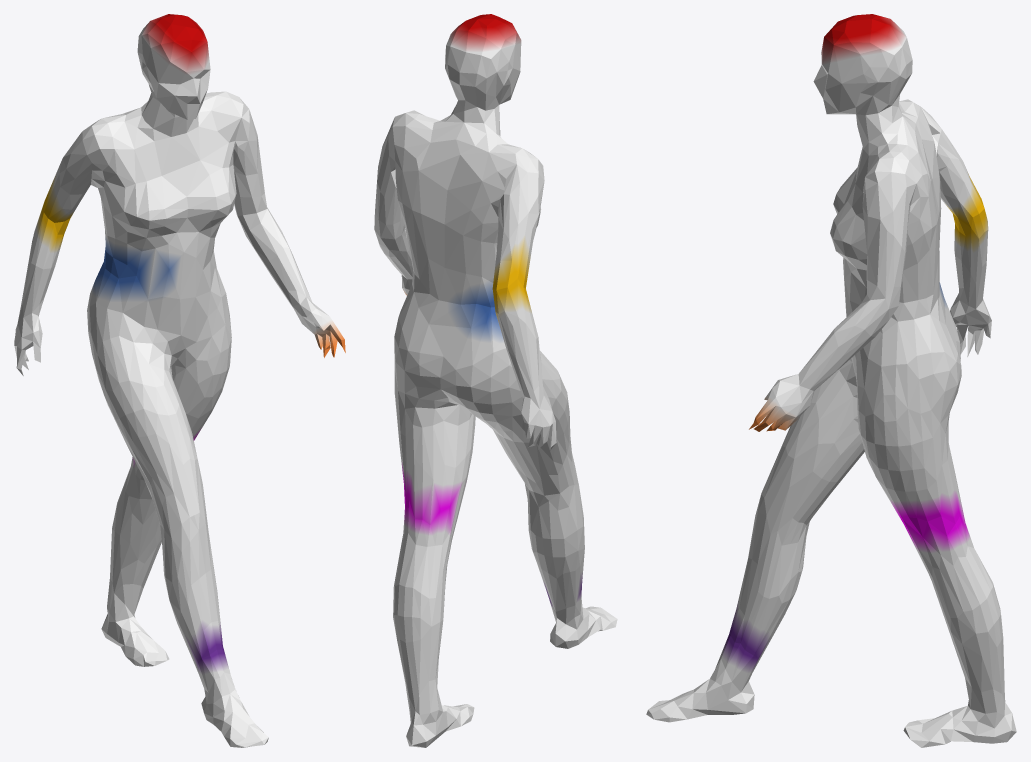
Rendered from target_human.obj.
3 views of the same model, side by side, from view 1: azimuth 30°, elevation 25°; view 2: azimuth 150°, elevation 25°; view 3: azimuth 270°, elevation 25° (orthographic). The views are drawn at different scales.
Size of the model in its own units: 0.8729 by 2.38 by 1.11.
Materials: 1 (1 with a texture image).
